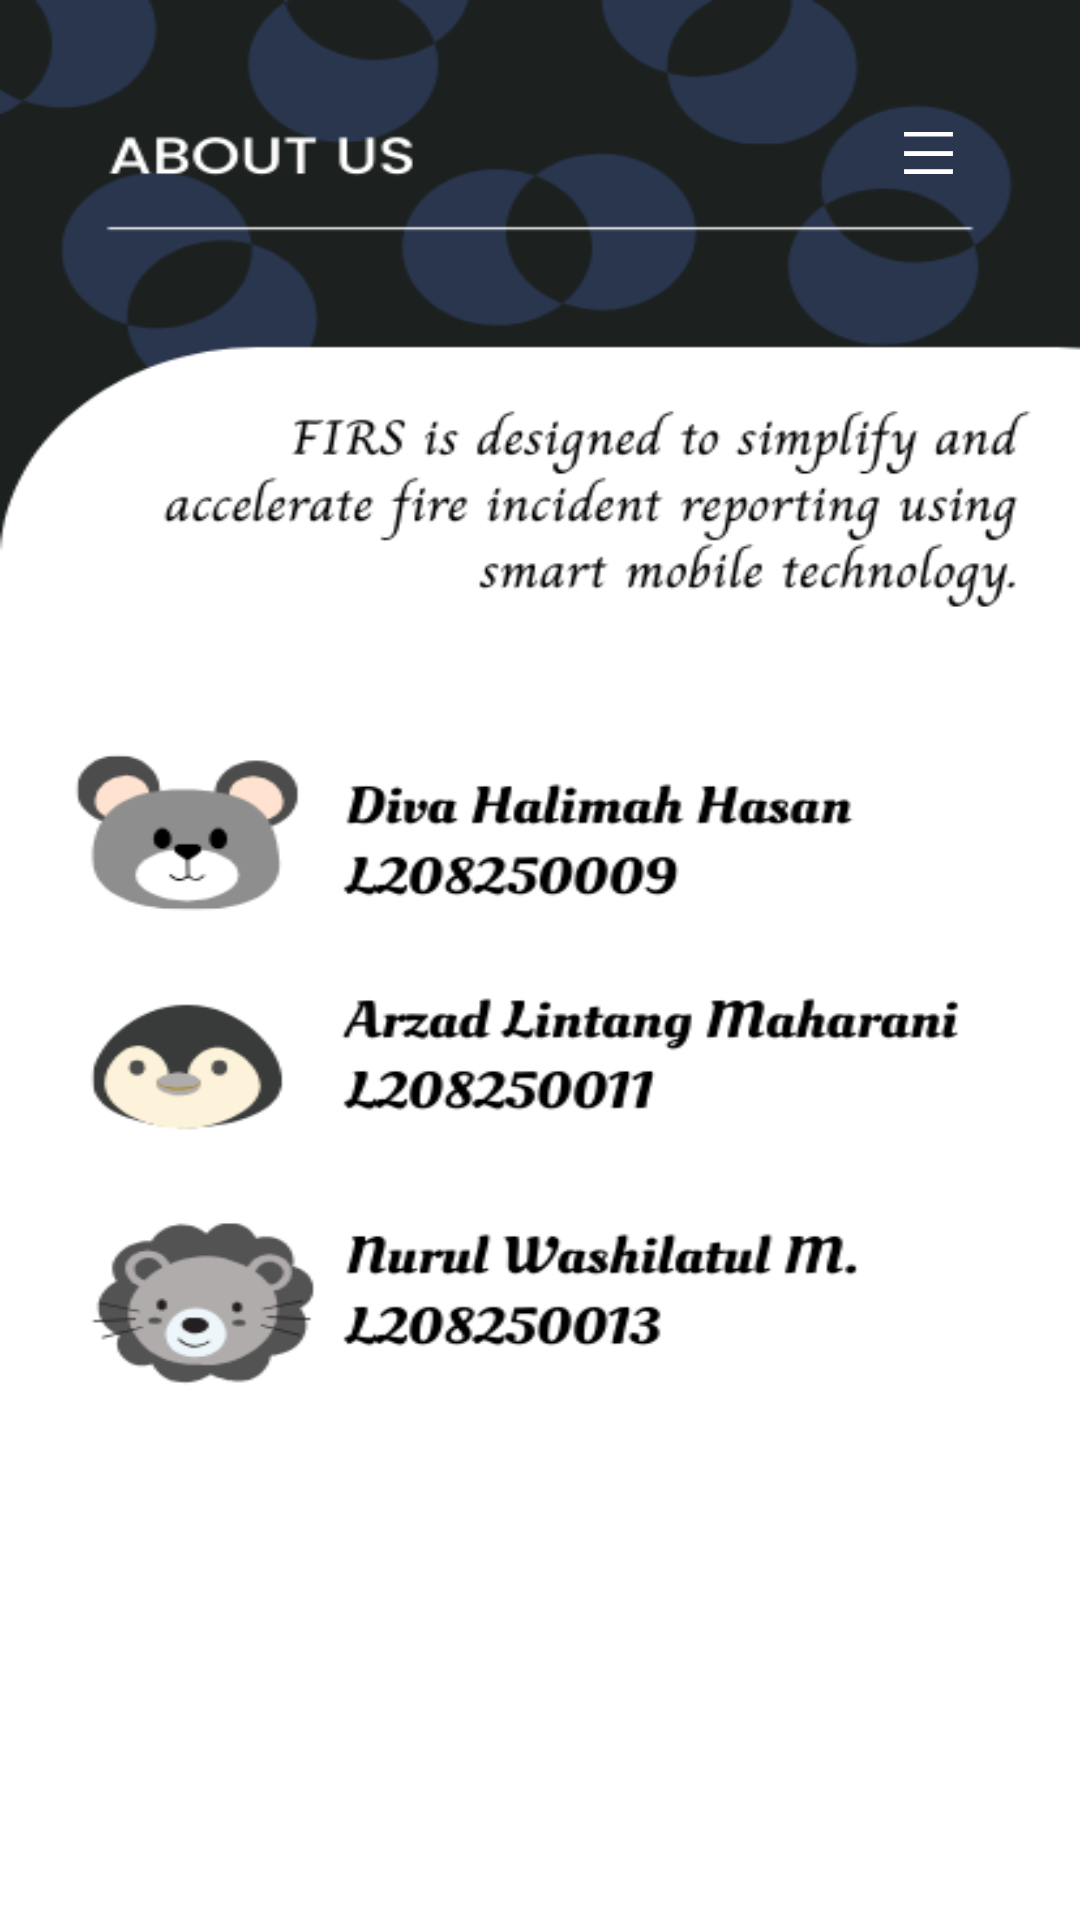

Icon bounding boxes for this 1080×1920 phone screenshot, format (x1, y1, x2, y2):
navwhite: (904, 132, 953, 174)
